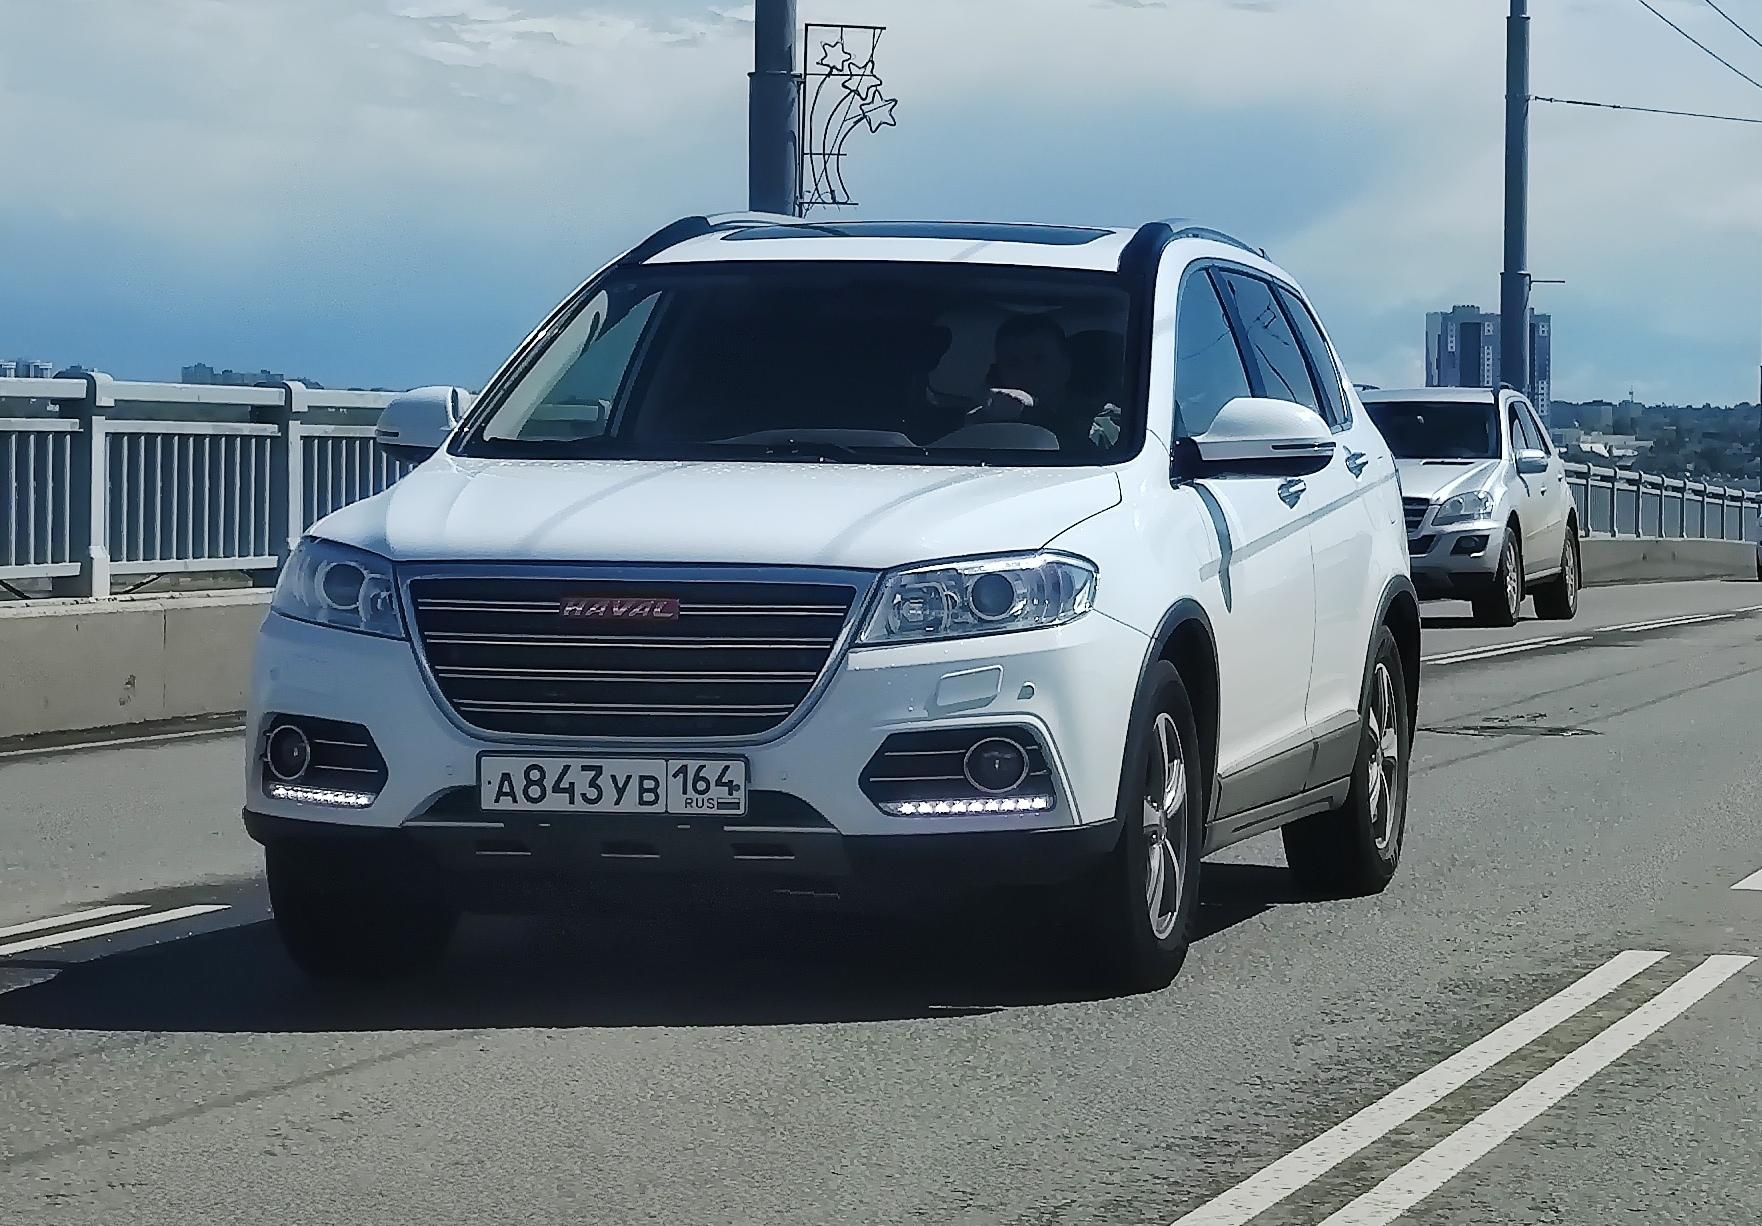license-plateSW: (485, 762, 748, 813)
